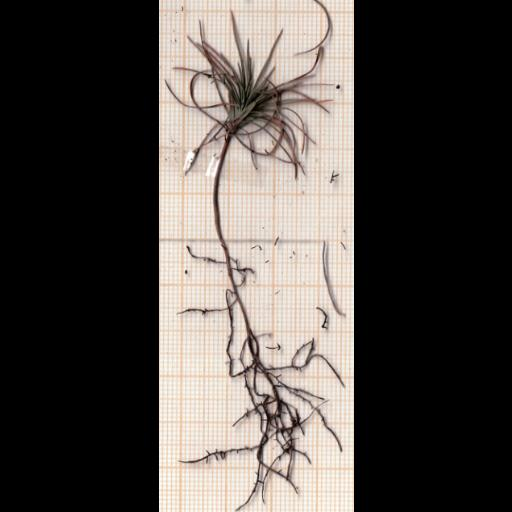flowerCedr: (184, 5, 332, 179)
rootCedr: (181, 249, 342, 511)
stemCedr: (211, 135, 228, 252)
